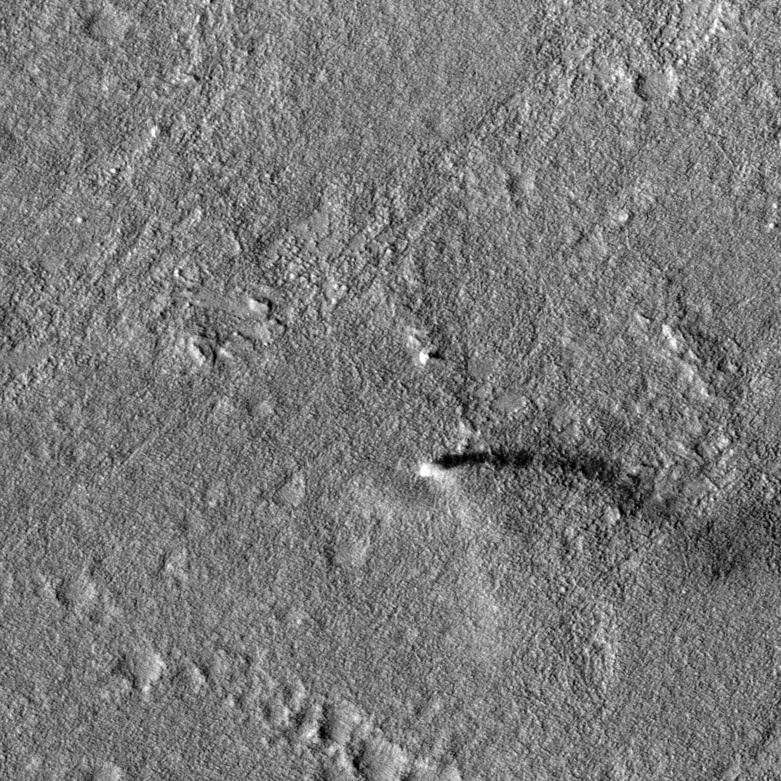dust_devil: (416, 443, 670, 522)
